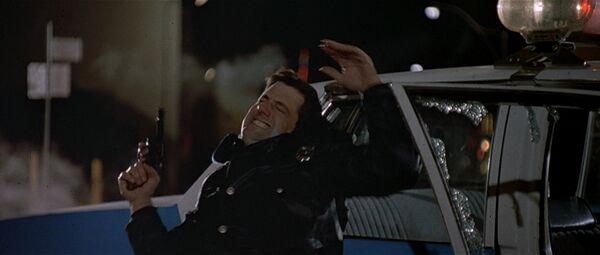Gun: (127, 107, 166, 192)
